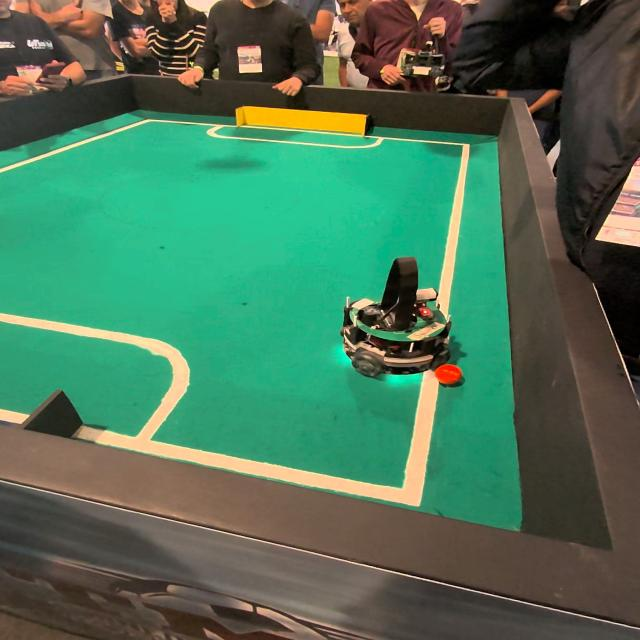Robot: (336, 249, 453, 387), (392, 19, 448, 99)
pelota: (437, 364, 466, 386)
